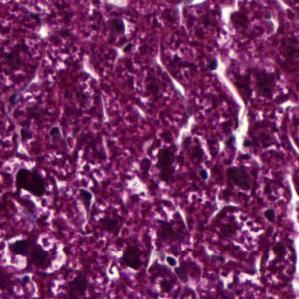inflammation: (2, 231, 67, 272), (140, 130, 185, 181), (148, 203, 189, 255), (11, 161, 52, 210), (220, 5, 249, 29)
